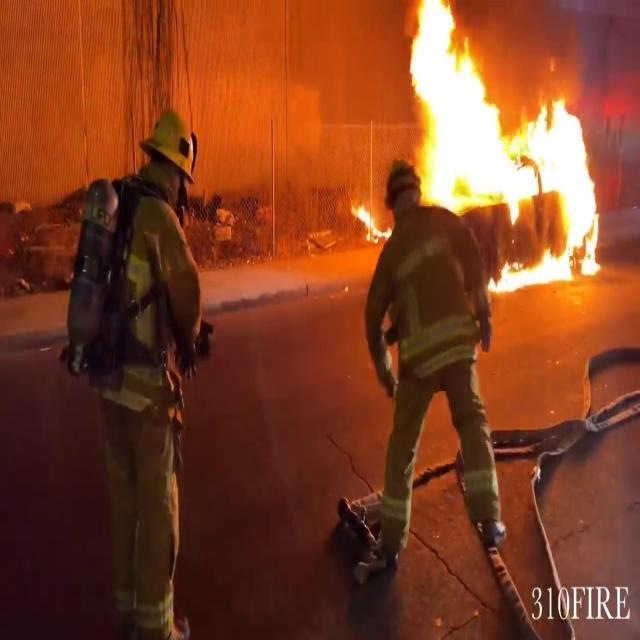Fire: (396, 1, 610, 292), (350, 190, 386, 246)
